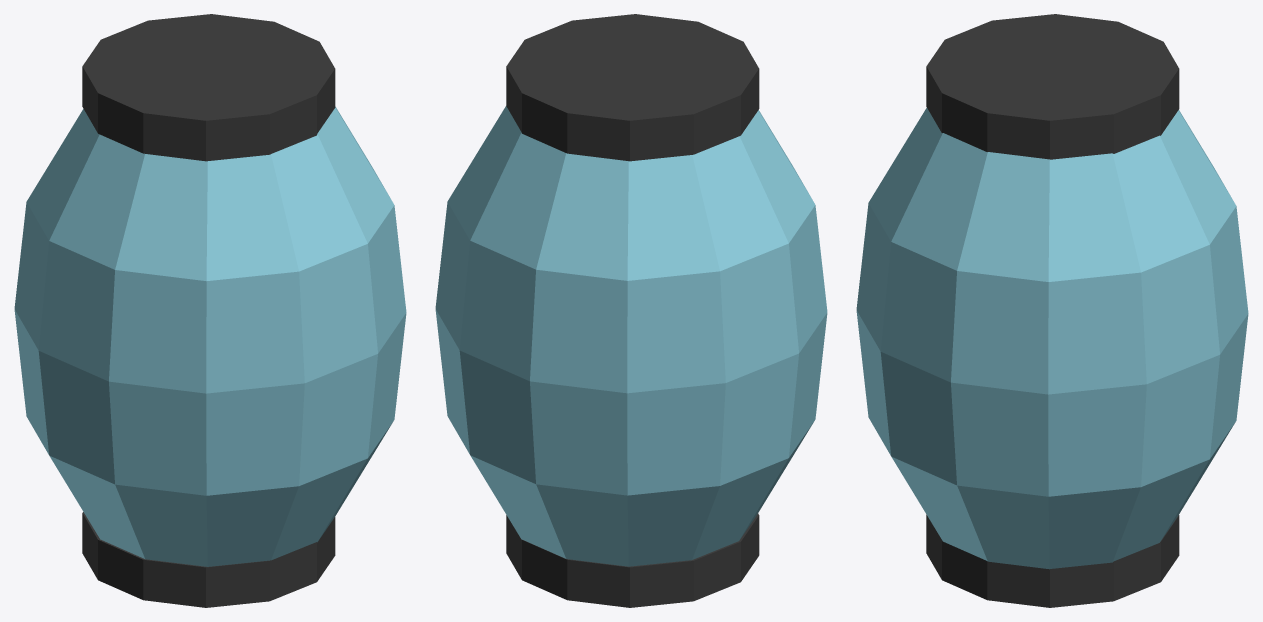
File: GlassDecorationSmallSpecimenJar1.fbx
3 views of the same model, side by side, from view 1: azimuth 30°, elevation 25°; view 2: azimuth 150°, elevation 25°; view 3: azimuth 270°, elevation 25° (orthographic).
Visible parts, largest first — view 1: GlassDecorationSmallSpecimenJar1; view 2: GlassDecorationSmallSpecimenJar1; view 3: GlassDecorationSmallSpecimenJar1.
Part boxes in pixels (left/top/right/bottom): GlassDecorationSmallSpecimenJar1: left=14, top=14, right=406, bottom=607; GlassDecorationSmallSpecimenJar1: left=435, top=14, right=827, bottom=607; GlassDecorationSmallSpecimenJar1: left=856, top=14, right=1248, bottom=607.
Size of the model in its own units: 99.73 by 137 by 99.73.
5 materials, 5 textured.
